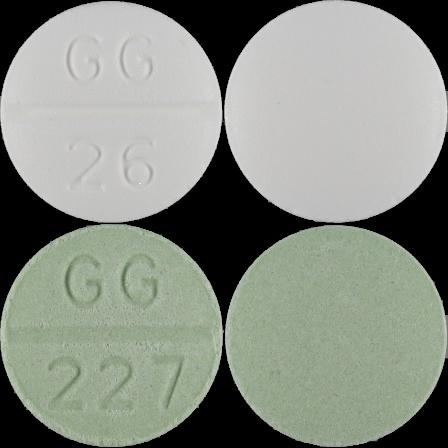0615-7902: (0, 0, 224, 224)
